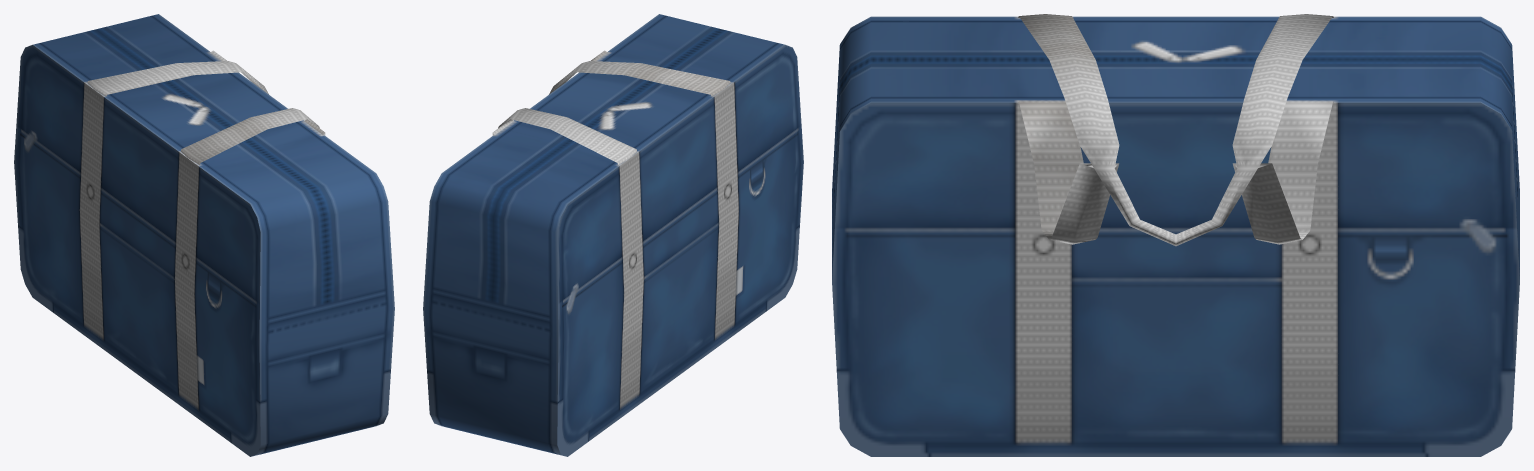
The model's file is School_bag_A_01_02.fbx.
The picture shows the model from 3 angles, left to right: view 1: azimuth 30°, elevation 25°; view 2: azimuth 150°, elevation 25°; view 3: azimuth 270°, elevation 25°; orthographic projection. The views are drawn at different scales.
Parts seen in each view (by area): view 1: school_bag_A_01_02; view 2: school_bag_A_01_02; view 3: school_bag_A_01_02.
Boxes of the visible parts, x1=… form: school_bag_A_01_02: x1=14, y1=14, x2=394, y2=456; school_bag_A_01_02: x1=423, y1=14, x2=803, y2=456; school_bag_A_01_02: x1=832, y1=14, x2=1519, y2=456.
Bounding box in the file's own units: 18.52 × 26.08 × 44.
